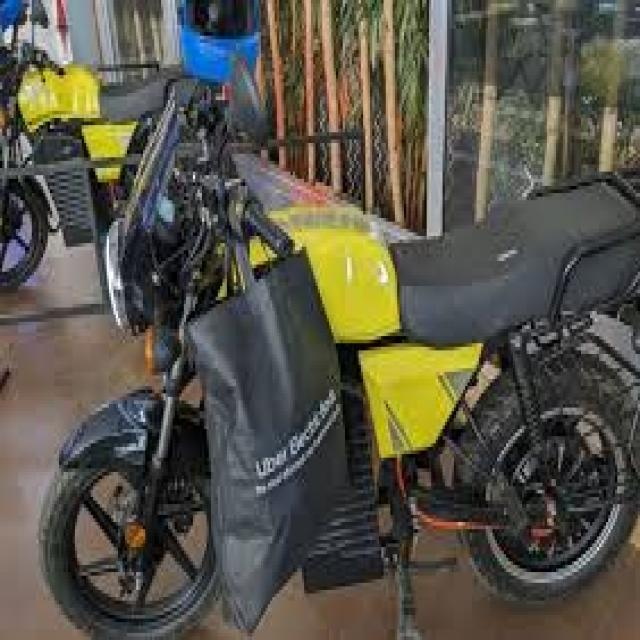bodaboda: (17, 37, 640, 628)
